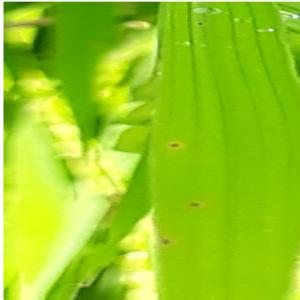Bercak Coklat: (165, 137, 184, 154), (157, 232, 174, 247), (187, 198, 201, 209)
